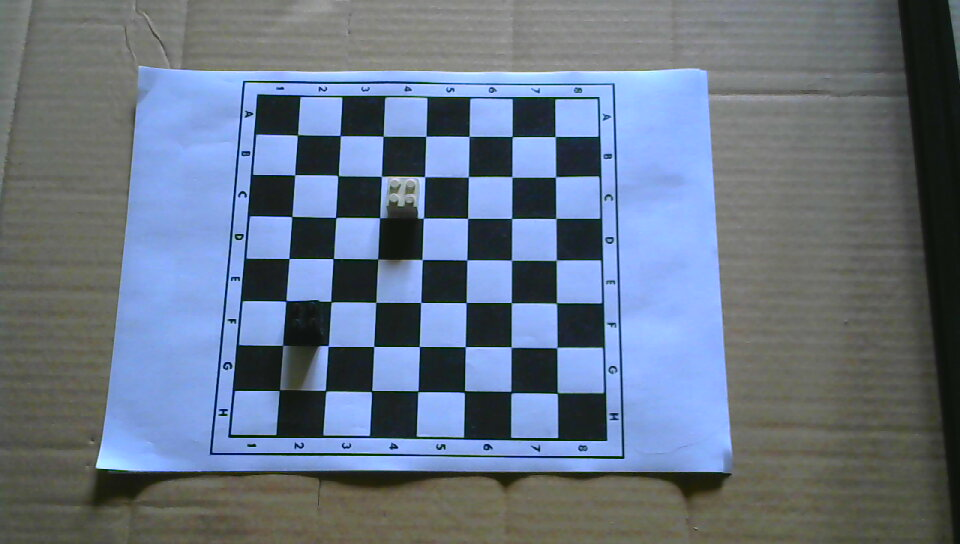bp: (287, 300, 324, 341)
wp: (384, 176, 421, 213)
